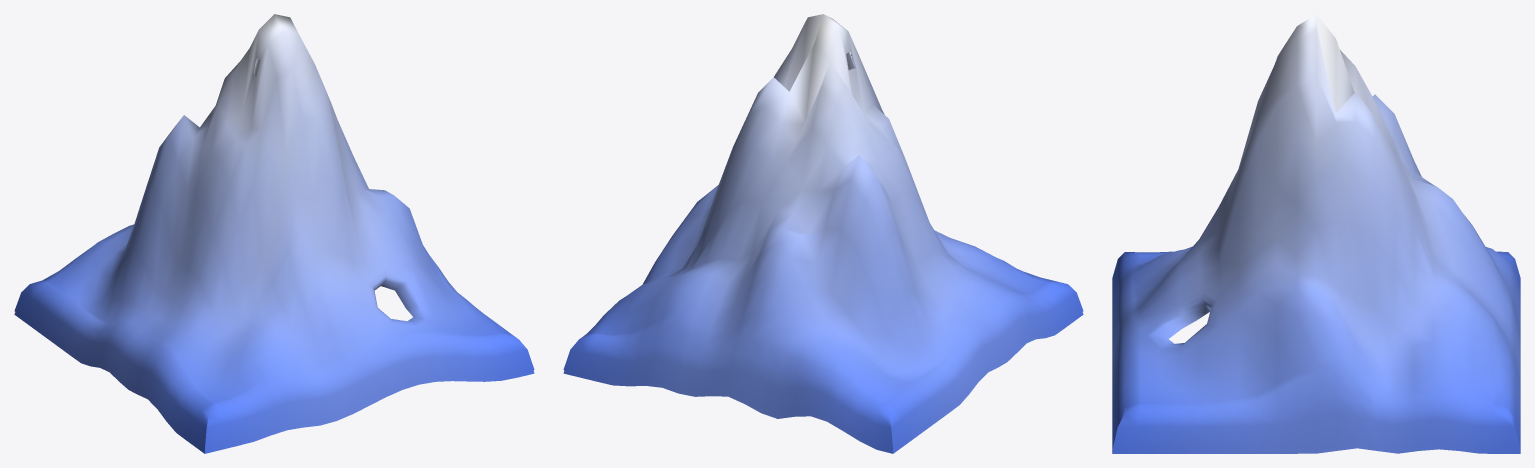
The model's file is Long Moutain Island 3.fbx.
3 renders of one model, left to right at view 1: azimuth 30°, elevation 25°; view 2: azimuth 150°, elevation 25°; view 3: azimuth 270°, elevation 25°, orthographic. The views are drawn at different scales.
Parts seen in each view (by area): view 1: pPlane2; view 2: pPlane2; view 3: pPlane2.
Boxes of the visible parts, bbox=[...] form: pPlane2: bbox=[14, 14, 534, 453]; pPlane2: bbox=[563, 14, 1083, 453]; pPlane2: bbox=[1112, 14, 1520, 453].
Size of the model in its own units: 18.82 by 18 by 18.82.
